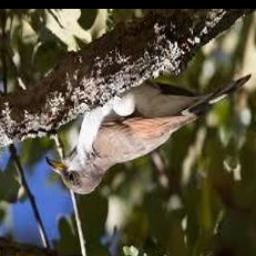Cuckoo: (44, 73, 250, 195)
